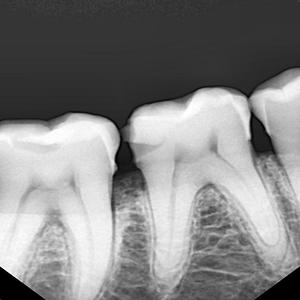tooth: (129, 88, 293, 286), (2, 113, 120, 298), (250, 67, 299, 227)
